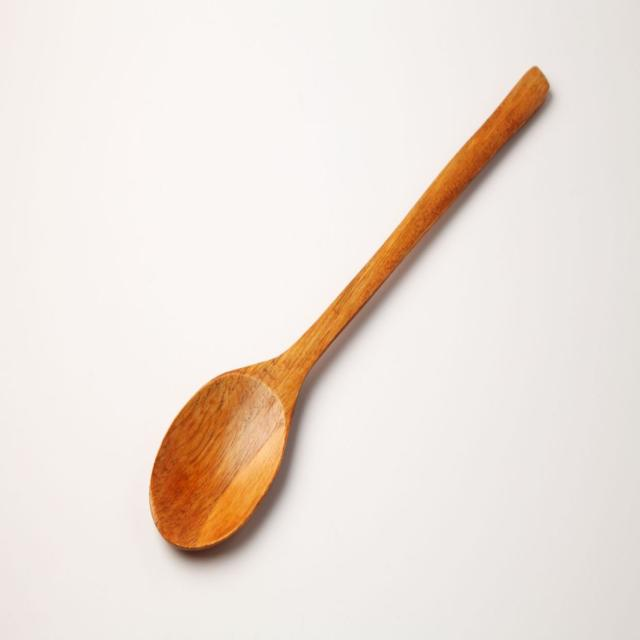spoon: (138, 56, 558, 568)
